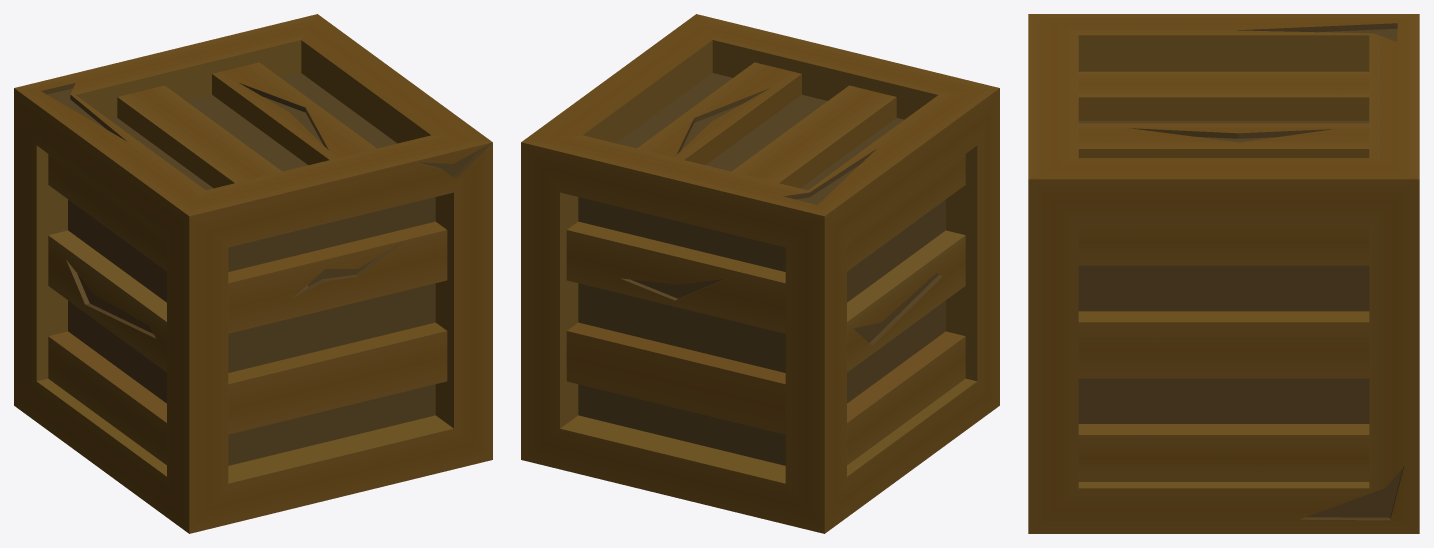
Rendered from Crate_V1.0.fbx.
3 renders of one model, left to right at view 1: azimuth 30°, elevation 25°; view 2: azimuth 150°, elevation 25°; view 3: azimuth 270°, elevation 25°, orthographic. The views are drawn at different scales.
Visible parts, largest first — view 1: Crate; view 2: Crate; view 3: Crate.
Boxes of the visible parts, box(x1,y1,x2,y2) form: Crate: box(14, 14, 492, 533); Crate: box(521, 14, 999, 533); Crate: box(1028, 14, 1419, 533).
Size of the model in its own units: 200 by 200 by 200.
